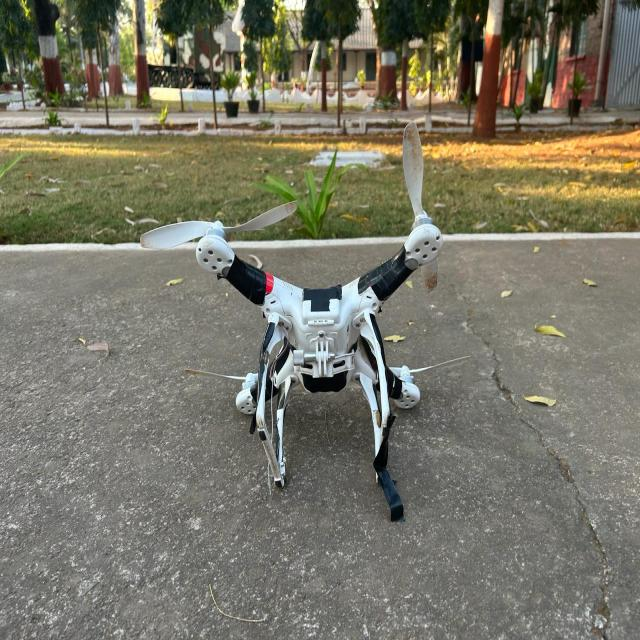drone: (83, 135, 577, 539)
